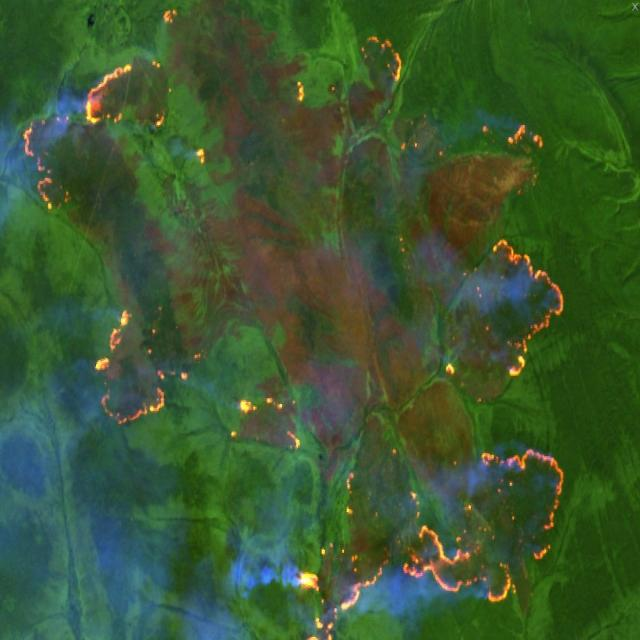fire: (16, 0, 568, 640)
